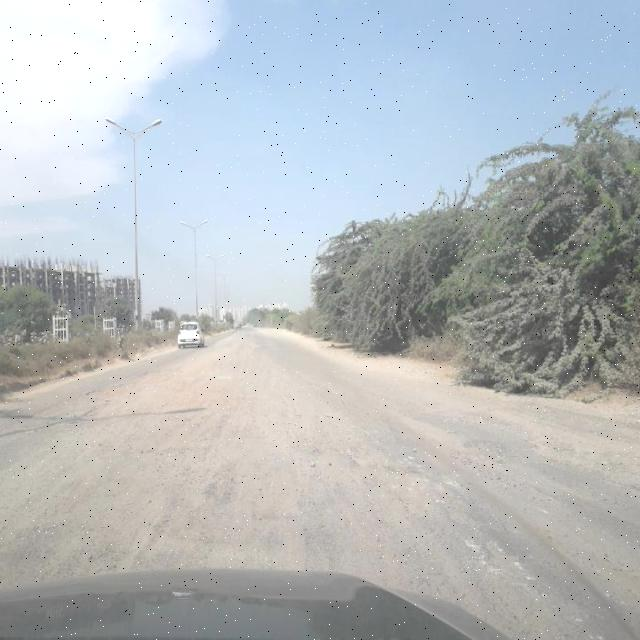D40: (124, 442, 243, 570), (1, 489, 120, 579), (74, 354, 215, 412), (525, 426, 640, 492), (256, 476, 322, 564), (404, 534, 497, 591), (452, 429, 524, 475), (336, 433, 408, 478), (403, 488, 479, 529), (476, 538, 534, 578)
